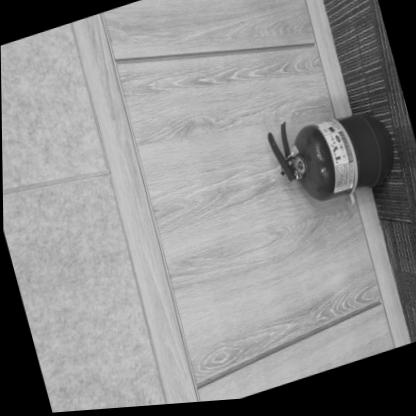FE: (263, 97, 402, 223)
